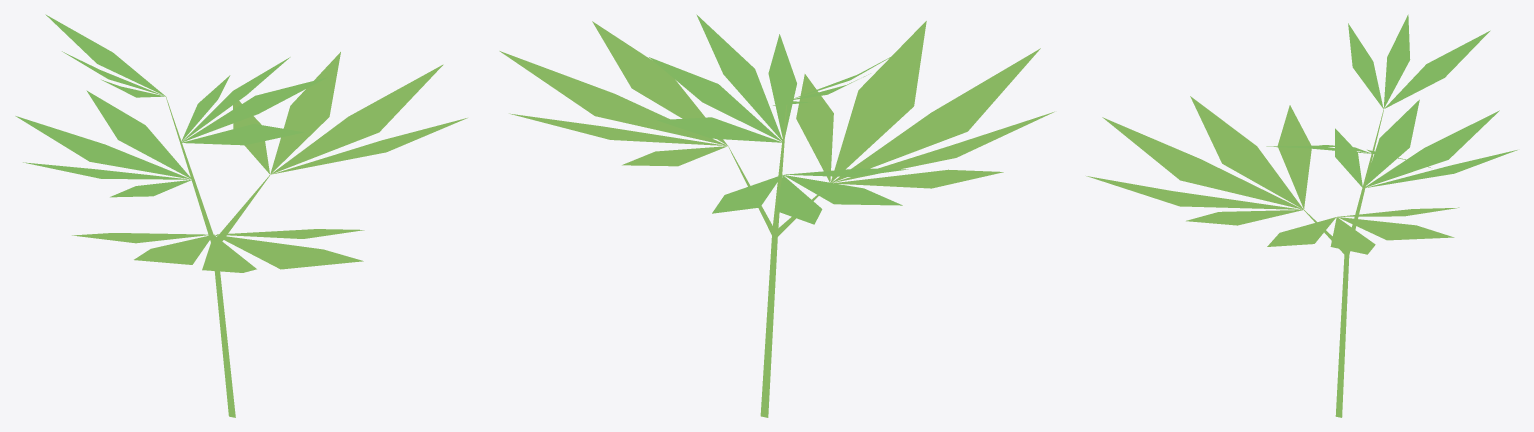
Rendered from Plant_i_OneS_08.fbx.
3 views of the same model, side by side, from view 1: azimuth 30°, elevation 25°; view 2: azimuth 150°, elevation 25°; view 3: azimuth 270°, elevation 25° (orthographic). The views are drawn at different scales.
Visible parts, largest first — view 1: Plant_i_OneS_08; view 2: Plant_i_OneS_08; view 3: Plant_i_OneS_08.
Part boxes in pixels (box(x1,y1,x2,y2)): Plant_i_OneS_08: box(15, 14, 467, 417); Plant_i_OneS_08: box(499, 14, 1054, 417); Plant_i_OneS_08: box(1086, 14, 1517, 417).
Bounding box in the file's own units: 0.8271 × 0.7073 × 0.8152.
